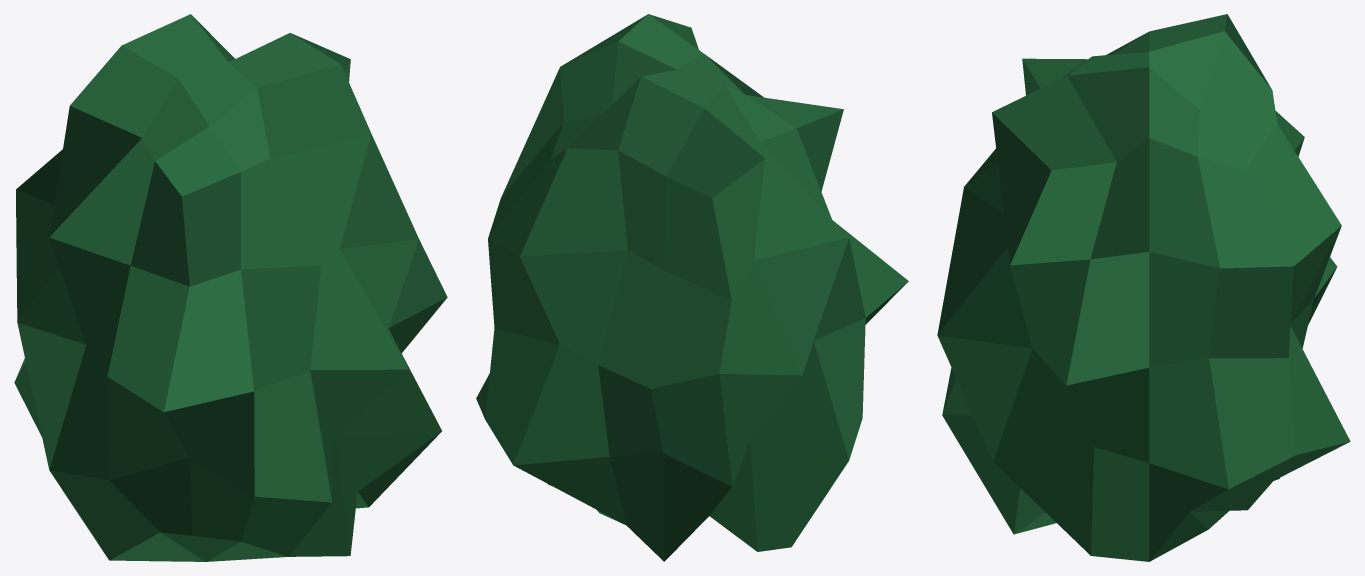
The model's file is bush_d2.fbx.
3 renders of one model, left to right at view 1: azimuth 30°, elevation 25°; view 2: azimuth 150°, elevation 25°; view 3: azimuth 270°, elevation 25°, orthographic. The views are drawn at different scales.
Visible parts, largest first — view 1: Cube; view 2: Cube; view 3: Cube.
Part boxes in pixels (left/top/right/bottom): Cube: left=14, top=14, right=447, bottom=561; Cube: left=476, top=14, right=908, bottom=561; Cube: left=937, top=14, right=1350, bottom=561.
Size of the model in its own units: 626 by 822 by 629.
